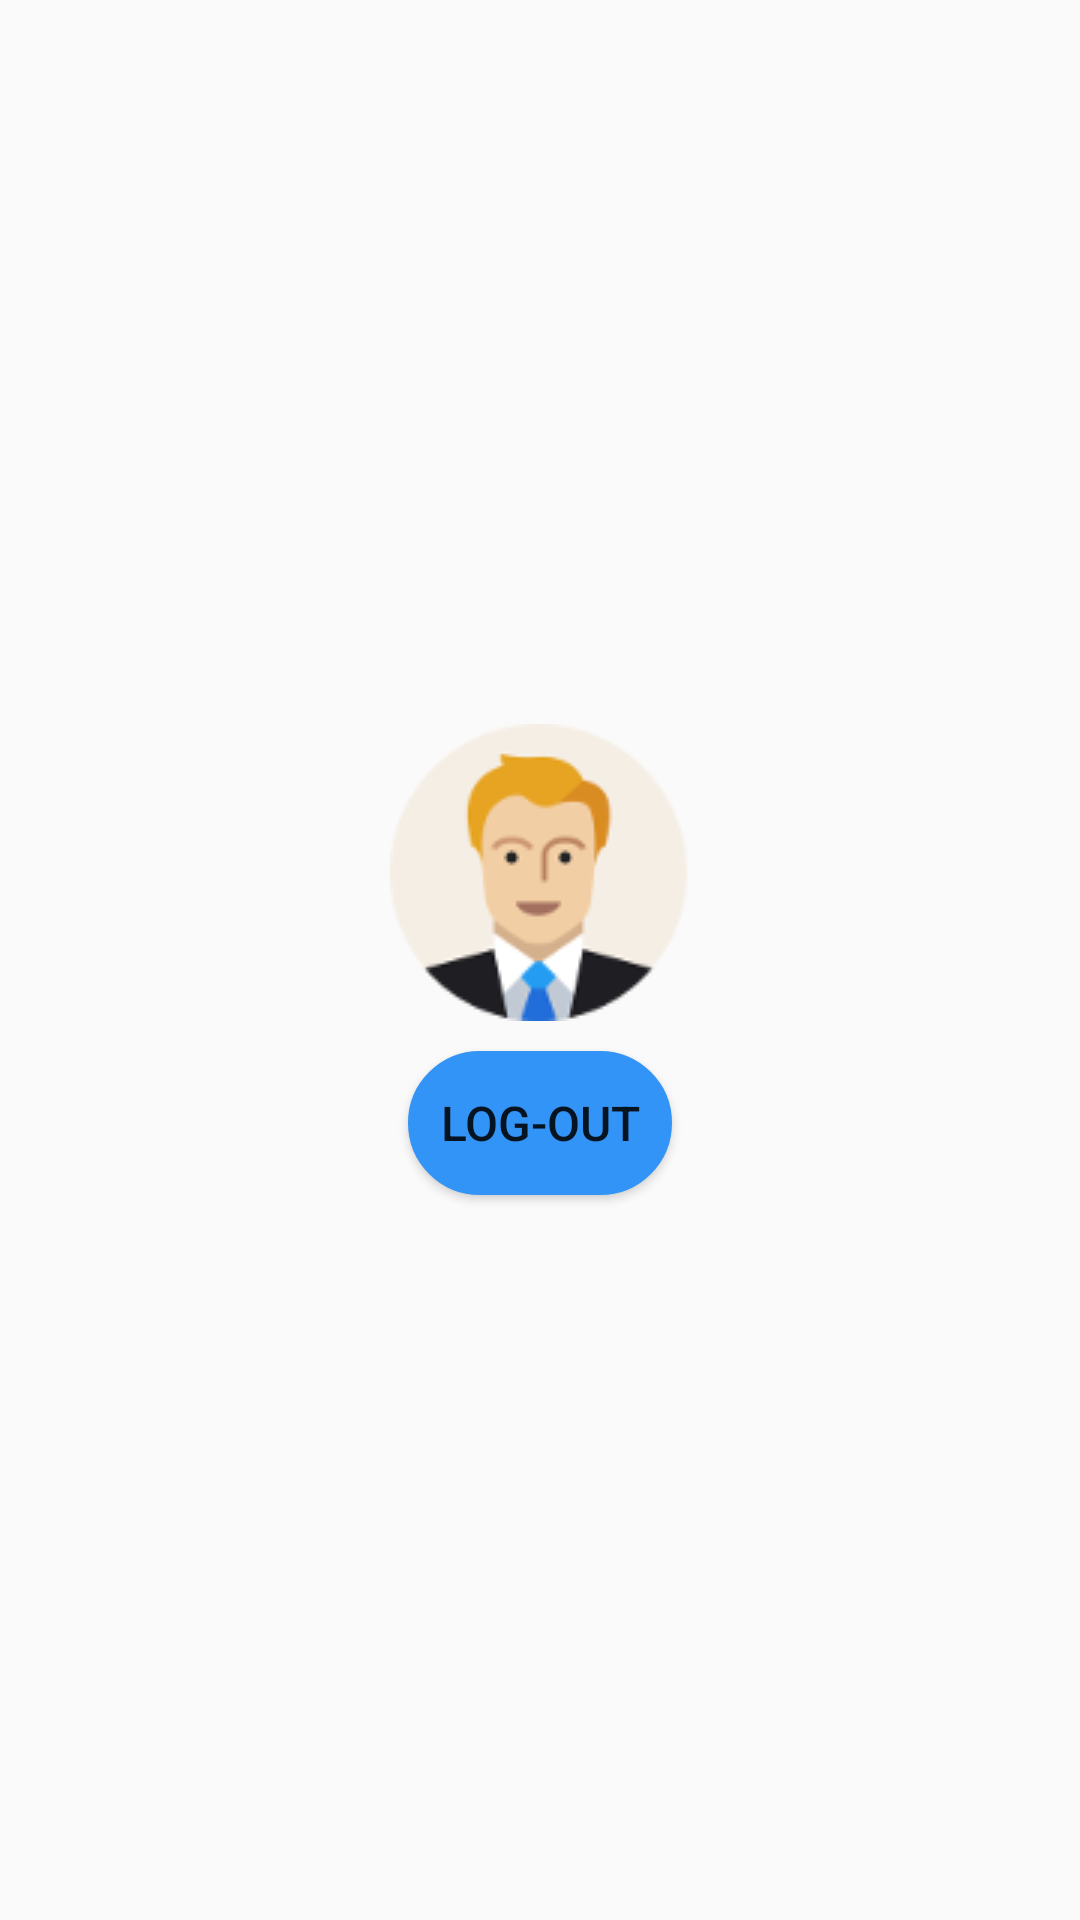

Icon bounding boxes for this 1080×1920 phone screenshot, format (x1, y1, x2, y2):
usericon: (425, 753, 653, 1021)
